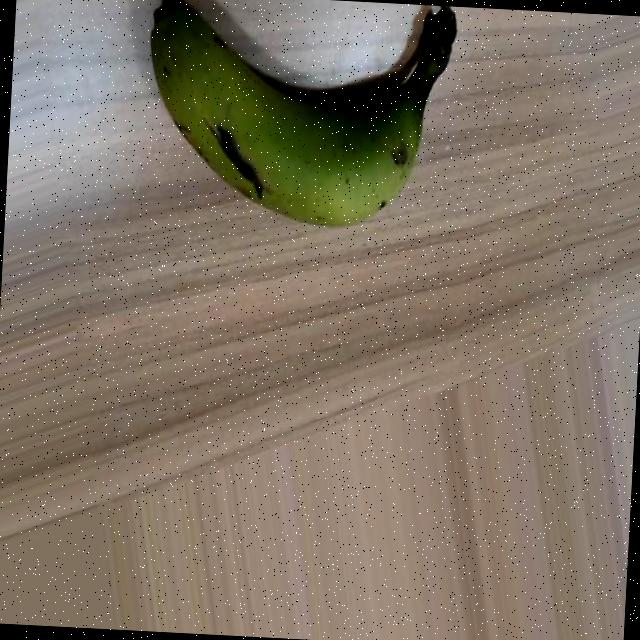Unripe: (140, 0, 459, 234)
